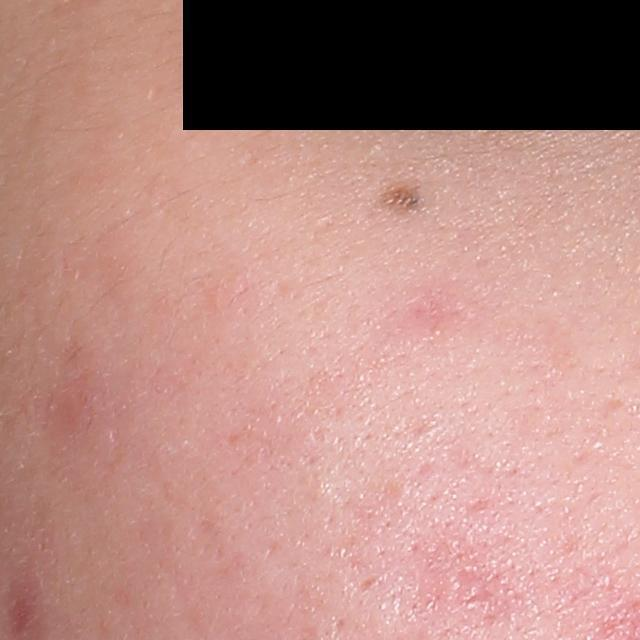nevus: (380, 185, 425, 212)
